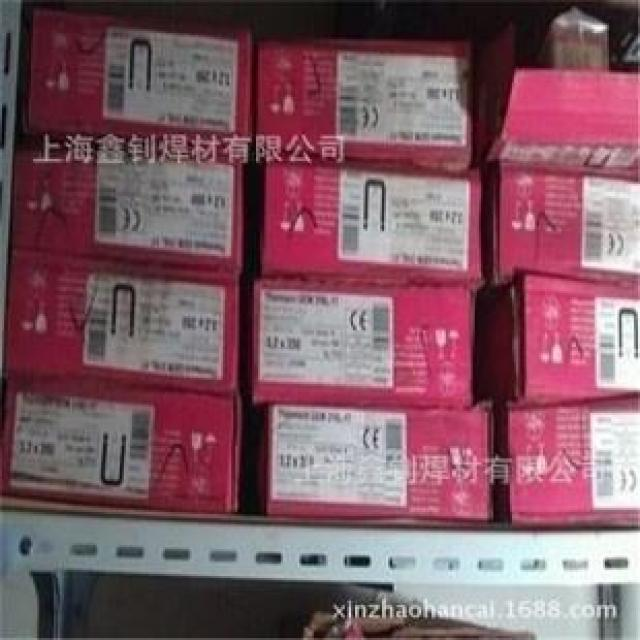box: (0, 248, 250, 400), (22, 11, 260, 160), (0, 386, 255, 514), (13, 150, 255, 280), (251, 278, 483, 408), (253, 38, 480, 170), (265, 400, 497, 526), (257, 162, 486, 284), (479, 276, 640, 403), (485, 161, 640, 283), (494, 397, 640, 526), (483, 65, 640, 164)
